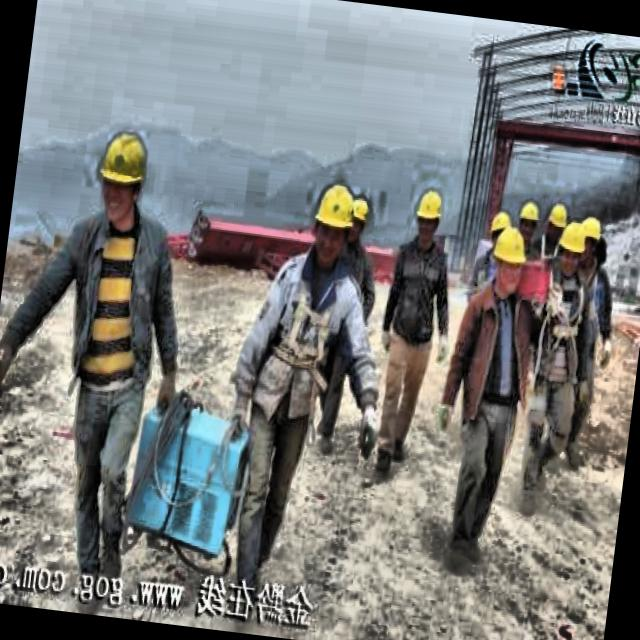helmet: (87, 115, 157, 238), (306, 177, 364, 265), (486, 220, 526, 287), (550, 218, 588, 282), (410, 182, 448, 245), (574, 210, 608, 268), (516, 194, 546, 243), (346, 197, 376, 242), (543, 198, 569, 248), (487, 203, 513, 251)
